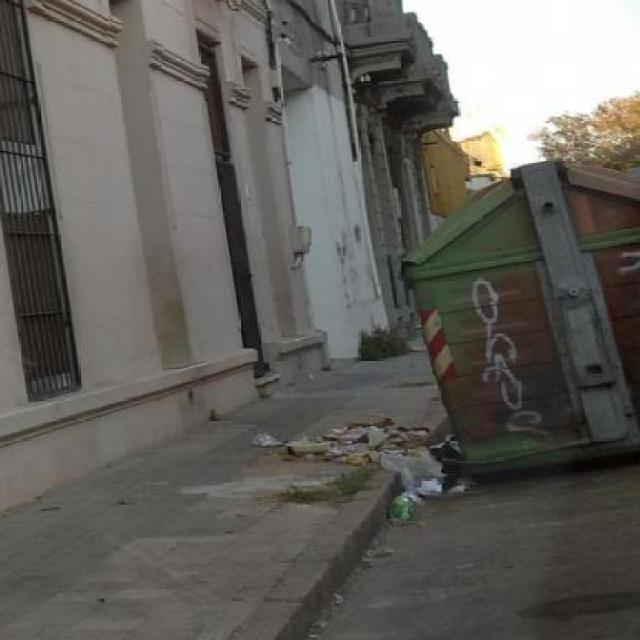garbage: (335, 428, 460, 492), (241, 409, 424, 450), (386, 492, 424, 524)
